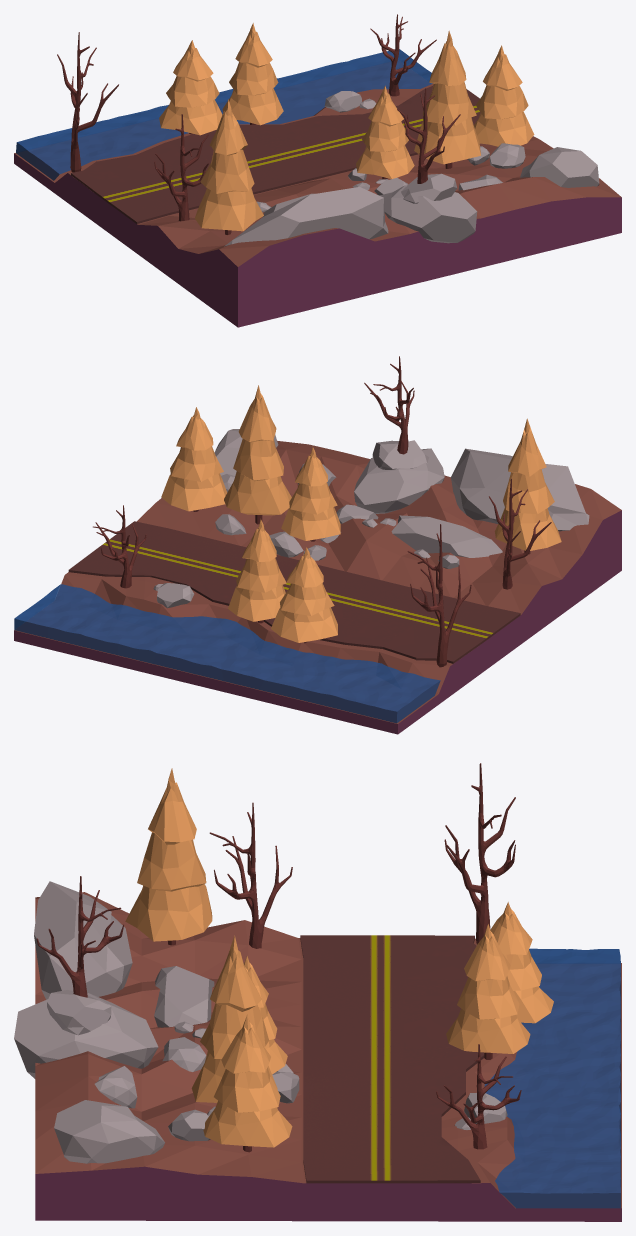
File: autumn_road.glb
3 renders of one model, top to bottom at view 1: azimuth 30°, elevation 25°; view 2: azimuth 150°, elevation 25°; view 3: azimuth 270°, elevation 25°, orthographic. The views are drawn at different scales.
Visible parts, largest first — view 1: Cube_0, Cube.001_1, Icosphere.021_14, Cube.002_2, Icosphere.003_6, Icosphere.001_4, Icosphere_3, Icosphere.004_7, Icosphere.005_8, Icosphere.002_5, Plane.003_11, Plane.004_12 (+2 smaller); view 2: Cube_0, Cube.002_2, Cube.001_1, Icosphere.021_14, Icosphere.001_4, Icosphere.003_6, Icosphere_3, Icosphere.004_7, Icosphere.005_8, Icosphere.002_5, Plane.003_11, Plane.004_12 (+2 smaller); view 3: Cube_0, Cube.001_1, Icosphere.021_14, Cube.002_2, Icosphere.003_6, Icosphere_3, Icosphere.005_8, Icosphere.001_4, Icosphere.004_7, Plane.003_11, Plane.004_12, Plane.002_9 (+2 smaller).
Boxes of the visible parts, x1,y1,x2,y2 form: Cube_0: (14, 61, 621, 327); Cube.001_1: (71, 86, 480, 223); Icosphere.021_14: (224, 91, 599, 246); Cube.002_2: (16, 49, 432, 180); Icosphere.003_6: (195, 99, 263, 234); Icosphere.001_4: (414, 30, 480, 168); Icosphere_3: (474, 45, 534, 146); Icosphere.004_7: (159, 40, 222, 135); Icosphere.005_8: (222, 23, 283, 125); Icosphere.002_5: (356, 85, 414, 179); Plane.003_11: (57, 32, 118, 172); Plane.004_12: (154, 114, 208, 221); Cube_0: (14, 441, 621, 734); Cube.002_2: (14, 584, 440, 723); Cube.001_1: (68, 521, 520, 663); Icosphere.021_14: (153, 429, 589, 608); Icosphere.001_4: (224, 385, 291, 524); Icosphere.003_6: (494, 418, 561, 554); Icosphere_3: (161, 407, 227, 511); Icosphere.004_7: (271, 547, 337, 643); Icosphere.005_8: (228, 519, 286, 623); Icosphere.002_5: (281, 447, 340, 541); Plane.003_11: (407, 524, 471, 667); Plane.004_12: (489, 478, 551, 589); Cube_0: (35, 892, 621, 1221); Cube.001_1: (300, 935, 484, 1183); Icosphere.021_14: (14, 881, 507, 1163); Cube.002_2: (484, 948, 620, 1208); Icosphere.003_6: (125, 768, 212, 945); Icosphere_3: (203, 1015, 292, 1152); Icosphere.005_8: (446, 924, 530, 1059); Icosphere.001_4: (191, 935, 277, 1102); Icosphere.004_7: (490, 902, 553, 1023); Plane.003_11: (444, 763, 515, 944); Plane.004_12: (209, 802, 292, 948); Plane.002_9: (36, 876, 123, 997).
Bounding box in the file's own units: 2.01 × 0.8879 × 2.07.
Materials: 7 (1 with a texture image).
